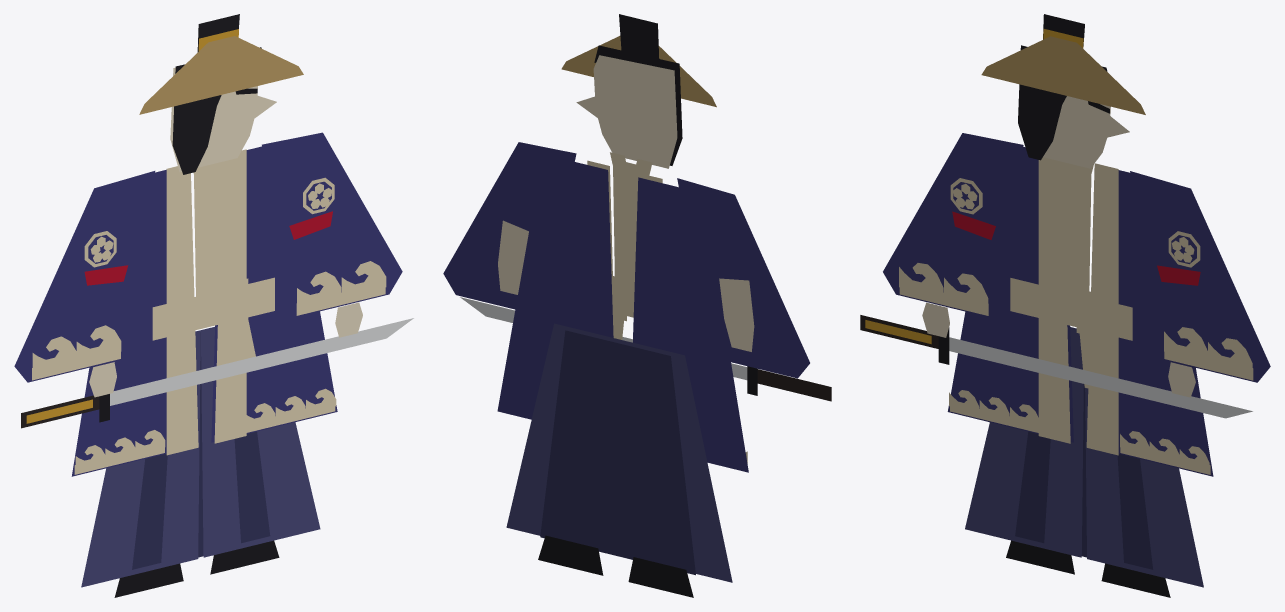
Rendered from samurai-v2.glb.
3 views of the same model, side by side, from view 1: azimuth 30°, elevation 25°; view 2: azimuth 150°, elevation 25°; view 3: azimuth 330°, elevation 25° (orthographic). The views are drawn at different scales.
Parts seen in each view (by area): view 1: kami_sleeve_R, hakama_L, robe_L, hakama_R, robe_R, kami_sleeve_L, lapel_R, sumi_hat, sword_paper, obi, sumi_sleeve_L, lapel_L (+10 smaller); view 2: hakama_back, robe_R, robe_L, kami_sleeve_R, face, kami_sleeve_L, hakama_R, hakama_L, kimono, kami_hair, sword_paper, sumi_forearm_R (+6 smaller); view 3: kami_sleeve_L, kami_sleeve_R, hakama_R, robe_R, robe_L, hakama_L, lapel_L, sumi_hat, sword_paper, lapel_R, obi, face (+10 smaller).
Part boxes in pixels (x1=…): kami_sleeve_R: x1=14, y1=171, x2=154, y2=382; hakama_L: x1=201, y1=327, x2=320, y2=557; robe_L: x1=211, y1=146, x2=337, y2=442; hakama_R: x1=81, y1=330, x2=200, y2=587; robe_R: x1=71, y1=169, x2=166, y2=476; kami_sleeve_L: x1=262, y1=132, x2=402, y2=317; lapel_R: x1=166, y1=166, x2=198, y2=455; sumi_hat: x1=139, y1=36, x2=303, y2=114; sword_paper: x1=21, y1=318, x2=413, y2=428; obi: x1=152, y1=277, x2=274, y2=380; sumi_sleeve_L: x1=262, y1=136, x2=336, y2=244; lapel_L: x1=214, y1=149, x2=246, y2=443; hakama_back: x1=540, y1=330, x2=695, y2=575; robe_R: x1=633, y1=177, x2=748, y2=472; robe_L: x1=497, y1=154, x2=613, y2=419; kami_sleeve_R: x1=677, y1=178, x2=809, y2=378; face: x1=576, y1=55, x2=677, y2=168; kami_sleeve_L: x1=443, y1=142, x2=576, y2=309; hakama_R: x1=619, y1=339, x2=732, y2=582; hakama_L: x1=506, y1=323, x2=619, y2=535; kimono: x1=613, y1=159, x2=647, y2=312; kami_hair: x1=594, y1=14, x2=682, y2=165; sword_paper: x1=460, y1=297, x2=831, y2=401; sumi_forearm_R: x1=719, y1=278, x2=754, y2=351; kami_sleeve_L: x1=1130, y1=171, x2=1270, y2=382; kami_sleeve_R: x1=883, y1=133, x2=1023, y2=317; hakama_R: x1=965, y1=327, x2=1083, y2=557; robe_R: x1=947, y1=147, x2=1073, y2=442; robe_L: x1=1118, y1=170, x2=1213, y2=476; hakama_L: x1=1085, y1=388, x2=1203, y2=587; lapel_L: x1=1086, y1=163, x2=1118, y2=455; sumi_hat: x1=981, y1=36, x2=1145, y2=114; sword_paper: x1=860, y1=315, x2=1252, y2=418; lapel_R: x1=1038, y1=157, x2=1070, y2=443; obi: x1=1010, y1=278, x2=1132, y2=390; face: x1=1043, y1=96, x2=1129, y2=168.
Size of the model in its own units: 2.98 by 4.14 by 0.38.
